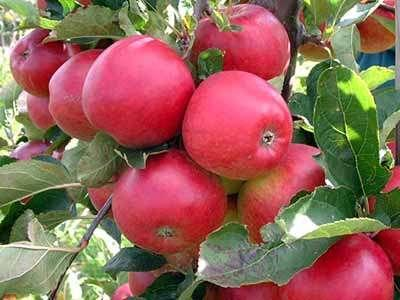apple: (79, 37, 198, 148), (181, 68, 295, 180), (107, 151, 227, 253), (183, 1, 292, 81), (236, 144, 326, 239), (278, 231, 396, 299), (8, 29, 71, 97)
